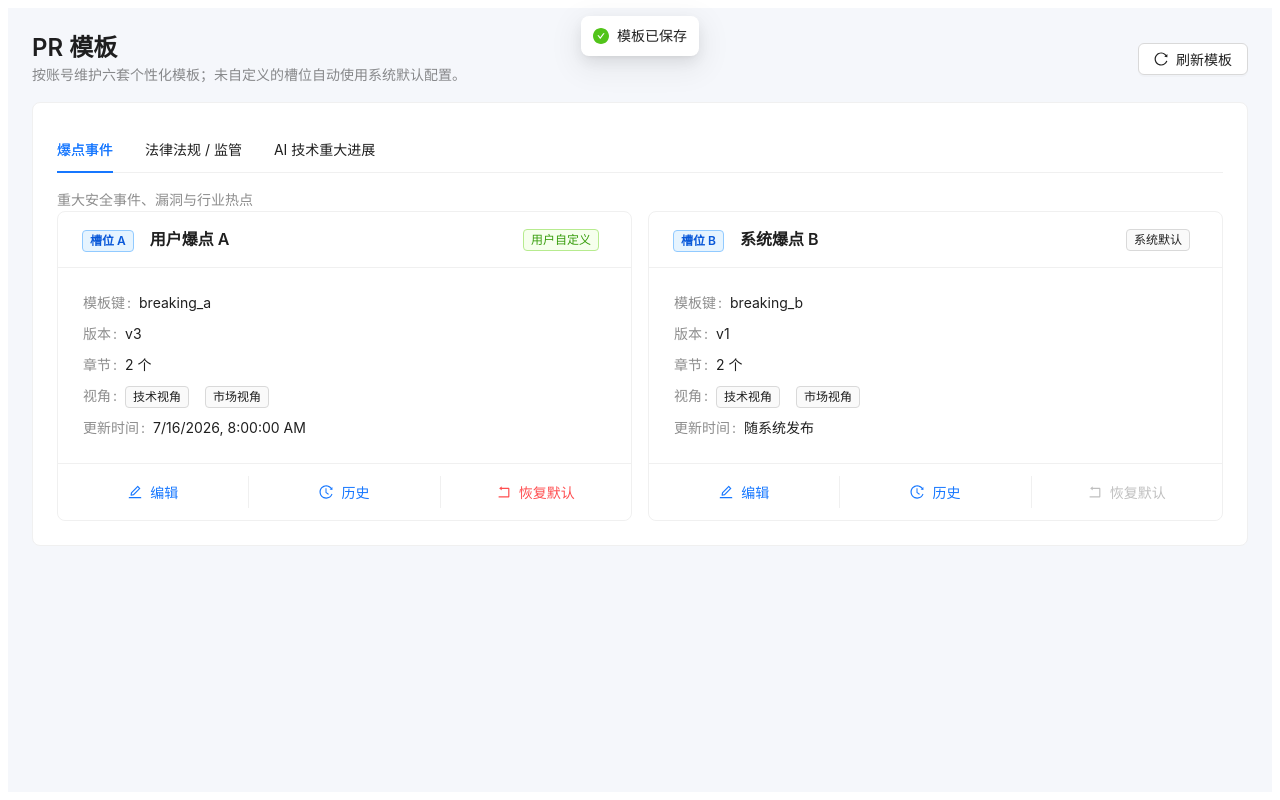
PRTemplatesPage › resets only the selected user template after confirmation
Expected: the text "用户爆点 A" is shown, [150, 227, 230, 252]
Click the button "恢复默认" below "7/16/2026, 8:00:00 AM" at [536, 492], box [481, 476, 591, 508]
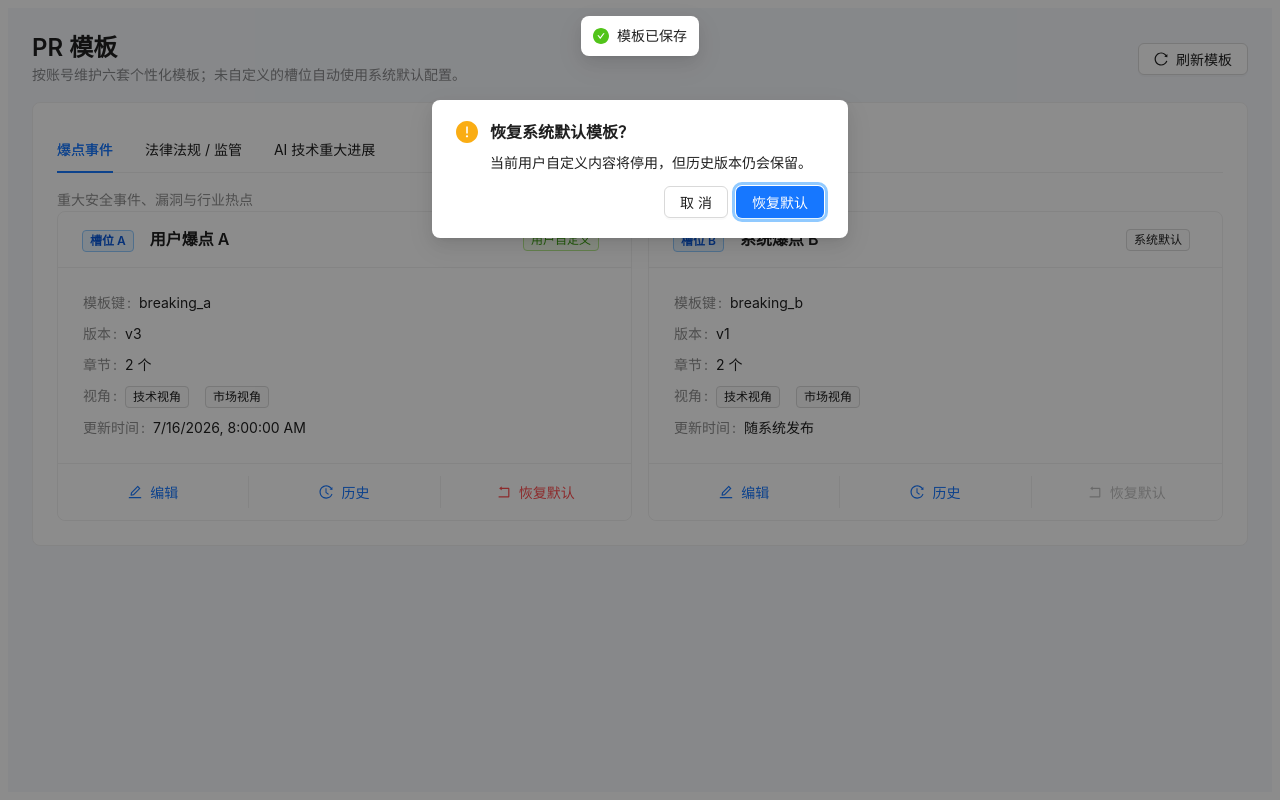
Click the button "恢复默认" at [780, 202], box [736, 186, 824, 218]
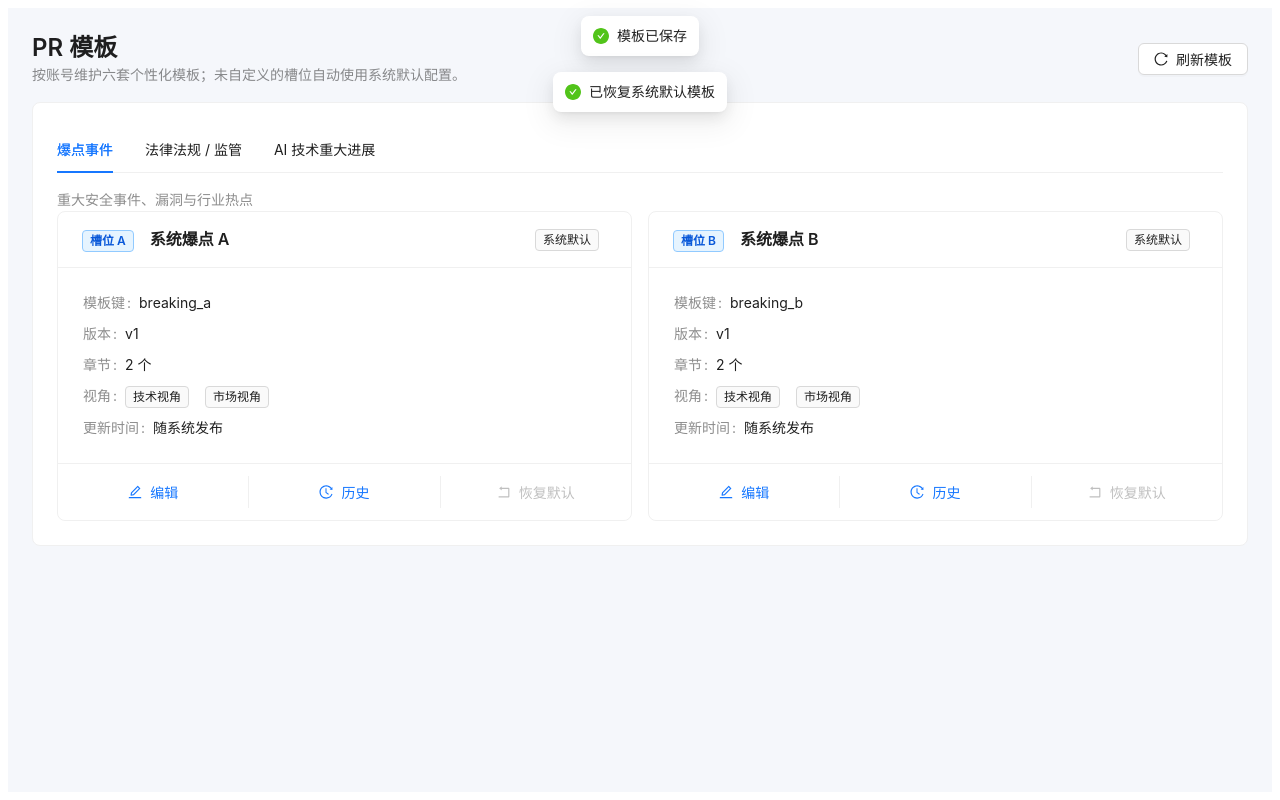
Expected: the text "系统爆点 A" is shown, [150, 227, 230, 252]
Expected: the text "用户爆点 A" is gone
